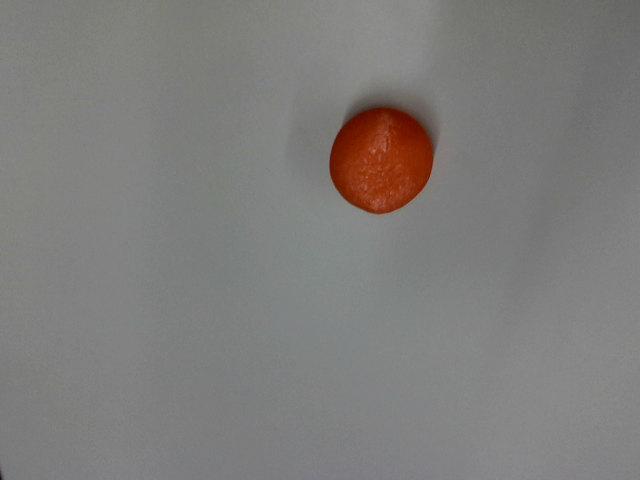orange: (308, 86, 453, 232)
